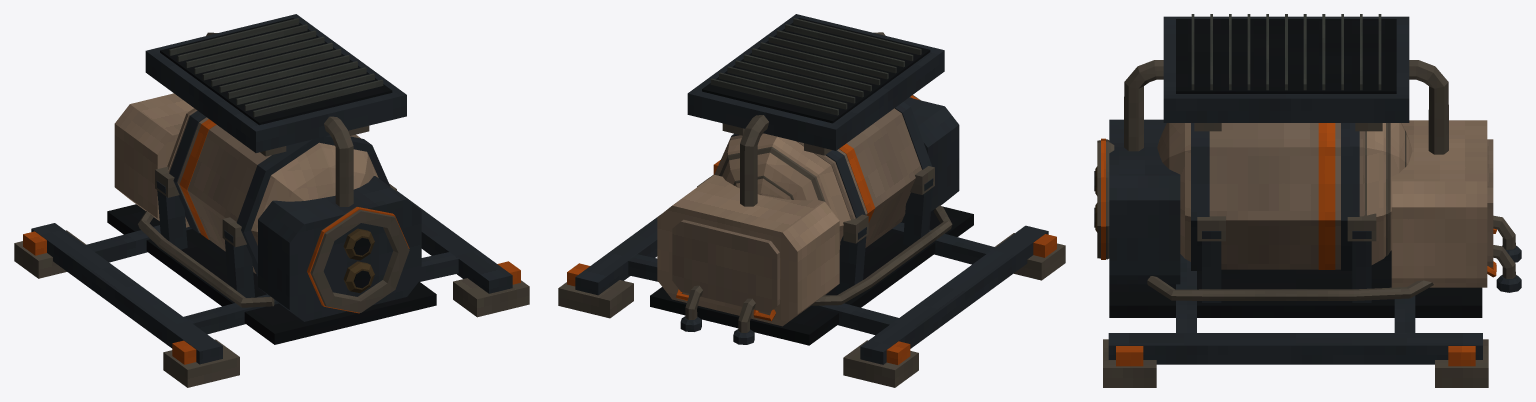
Rendered from depot-refinery-lod2.glb.
3 views of the same model, side by side, from view 1: azimuth 30°, elevation 25°; view 2: azimuth 150°, elevation 25°; view 3: azimuth 270°, elevation 25° (orthographic). The views are drawn at different scales.
Parts seen in each view (by area): view 1: Refinery ceramic and hardware trim 2; view 2: Refinery ceramic and hardware trim 2; view 3: Refinery ceramic and hardware trim 2.
Part boxes in pixels (<box>): Refinery ceramic and hardware trim 2: <box>14,14,529,387</box>; Refinery ceramic and hardware trim 2: <box>558,14,1065,387</box>; Refinery ceramic and hardware trim 2: <box>1094,14,1521,387</box>.
Size of the model in its own units: 6.12 by 3.78 by 5.95.
1 material, 1 textured.
